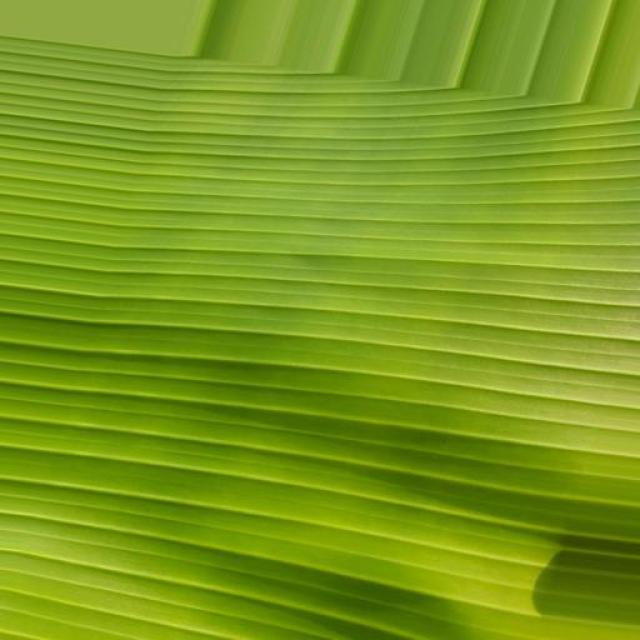Black_leaf_spot: (0, 0, 597, 622)
